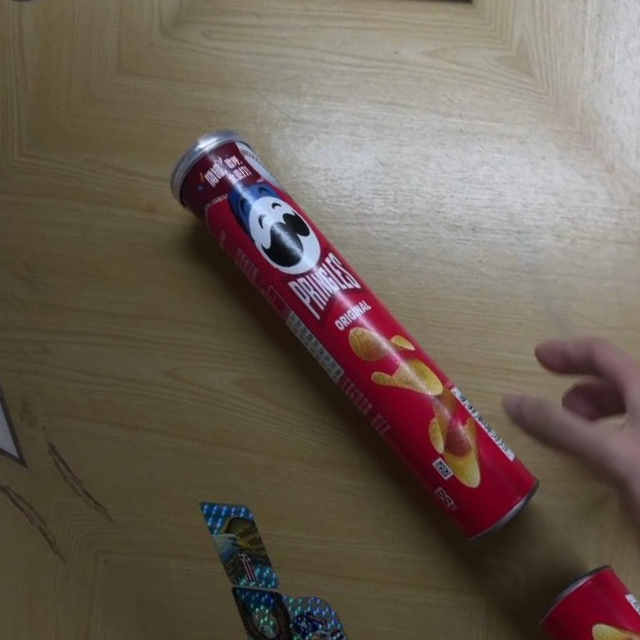Pringles: (156, 112, 549, 554)
